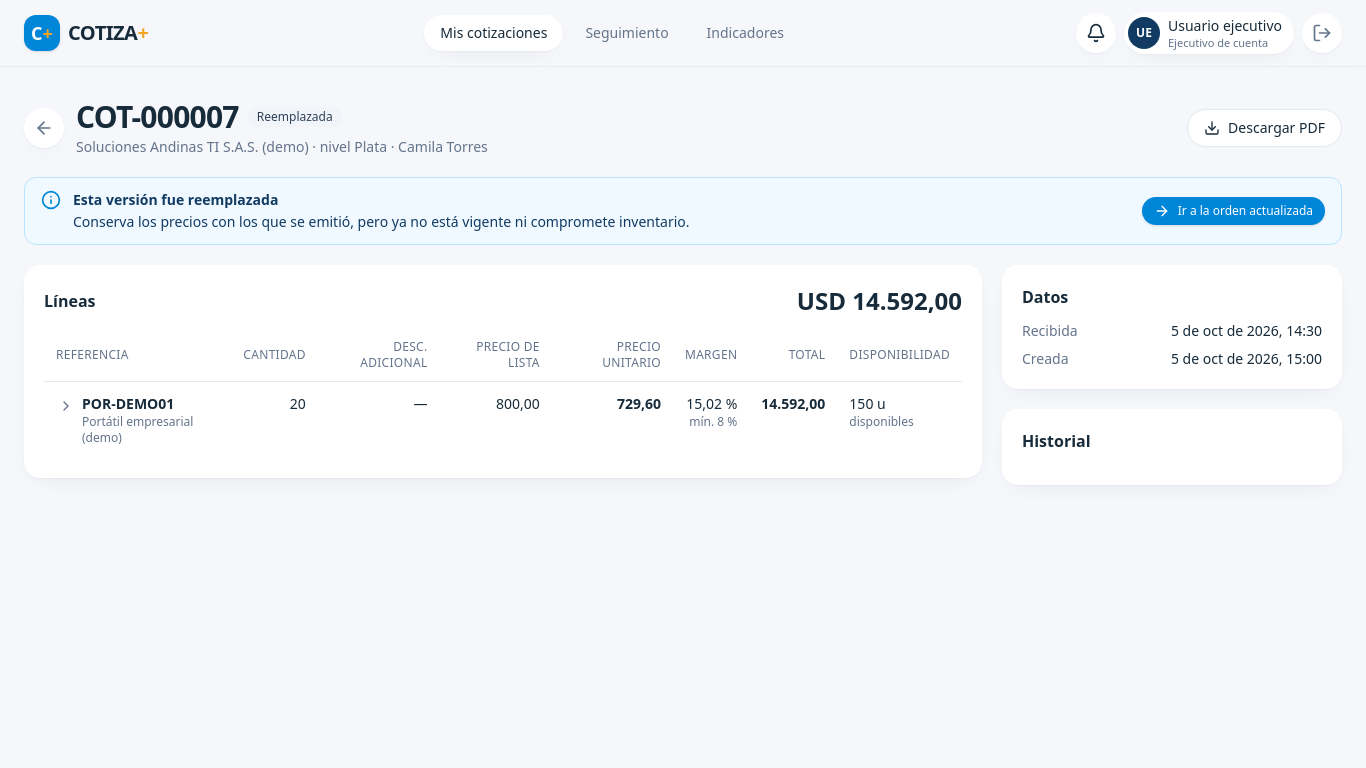
it: cotización: cuándo se puede emitir › una versión reemplazada ofrece ir a la orden actualizada
Expected: the text "Esta versión fue reemplazada" is shown, [73,190,278,209]
Click the button "Ir a la orden actualizada" at point(1233, 211), box [1142,197,1325,225]
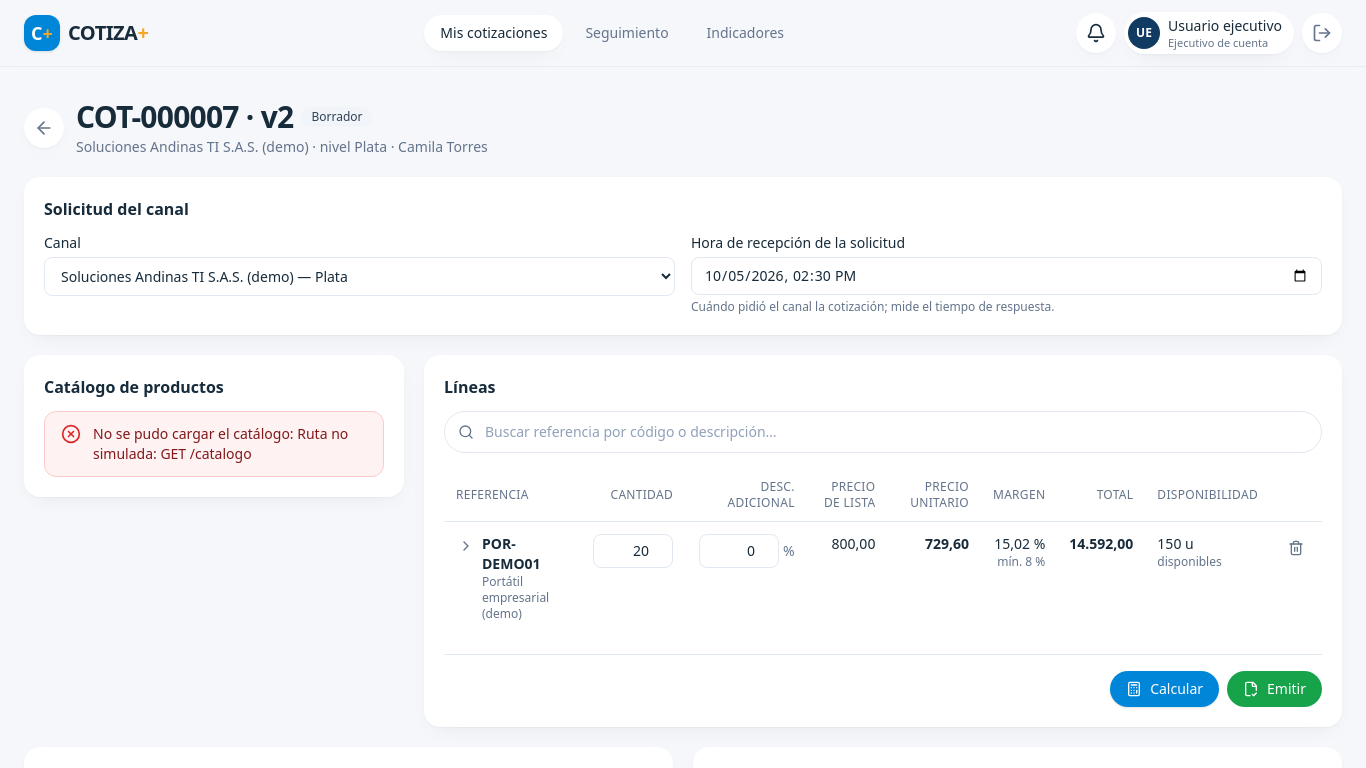
Expected: the heading "COT-000007 · v2" is shown, [76,99,293,135]
Expected: the text "Esta versión fue reemplazada" is gone
